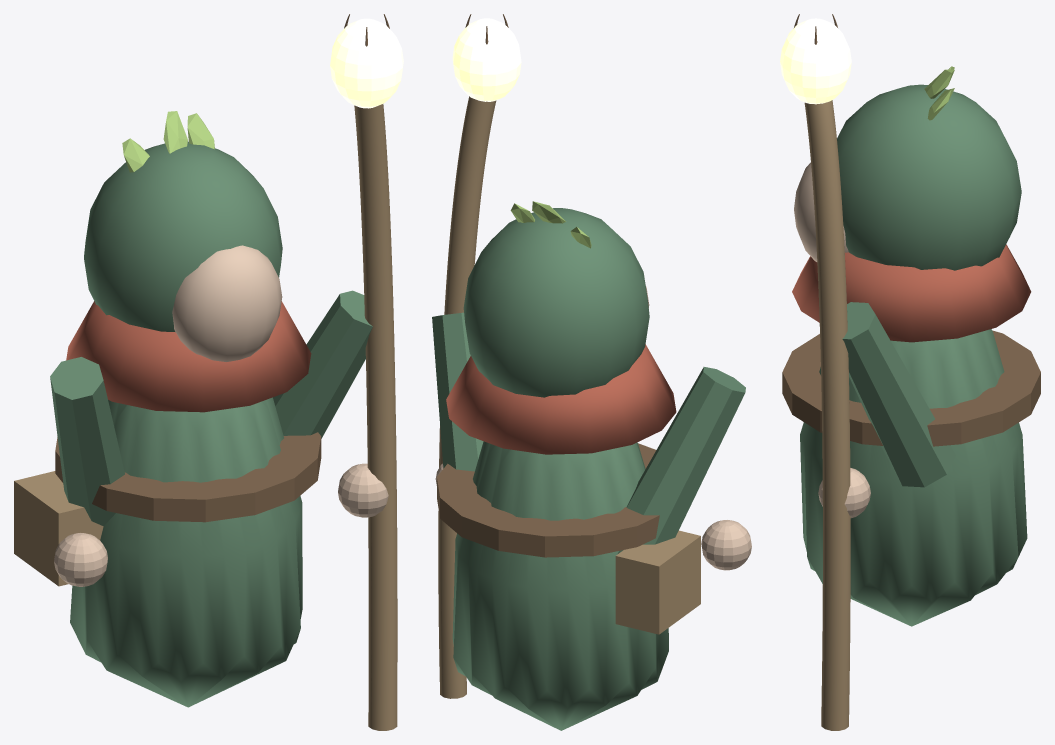
The model's file is grovewalker.glb.
3 views of the same model, side by side, from view 1: azimuth 30°, elevation 25°; view 2: azimuth 150°, elevation 25°; view 3: azimuth 270°, elevation 25° (orthographic). The views are drawn at different scales.
Parts seen in each view (by area): view 1: grovewalker; view 2: grovewalker; view 3: grovewalker.
Part boxes in pixels (left/top/right/bottom): grovewalker: left=14, top=14, right=403, bottom=730; grovewalker: left=432, top=14, right=751, bottom=730; grovewalker: left=780, top=14, right=1040, bottom=730.
Size of the model in its own units: 0.7765 by 1.6 by 0.545.
